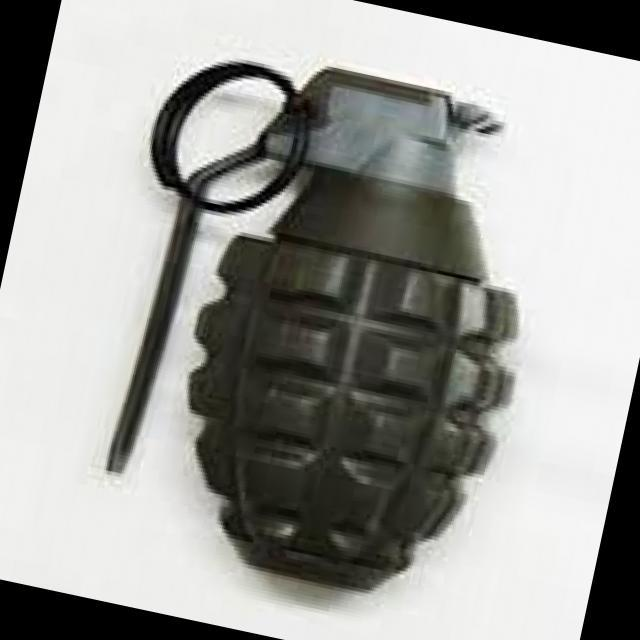grenade: (68, 9, 572, 614)
